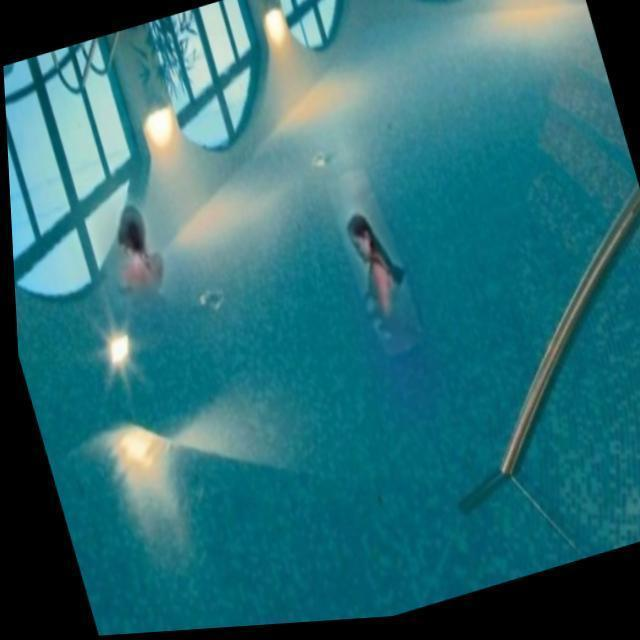swimming: (316, 196, 422, 354), (103, 208, 192, 326)
